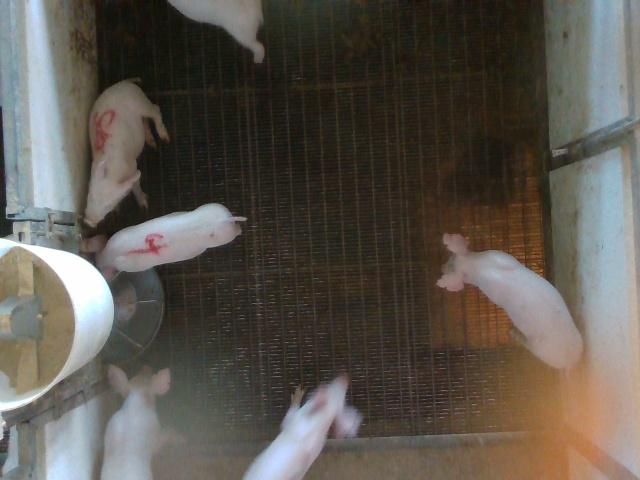pig-4: (82, 204, 246, 282)
pig-5: (84, 79, 169, 227)
